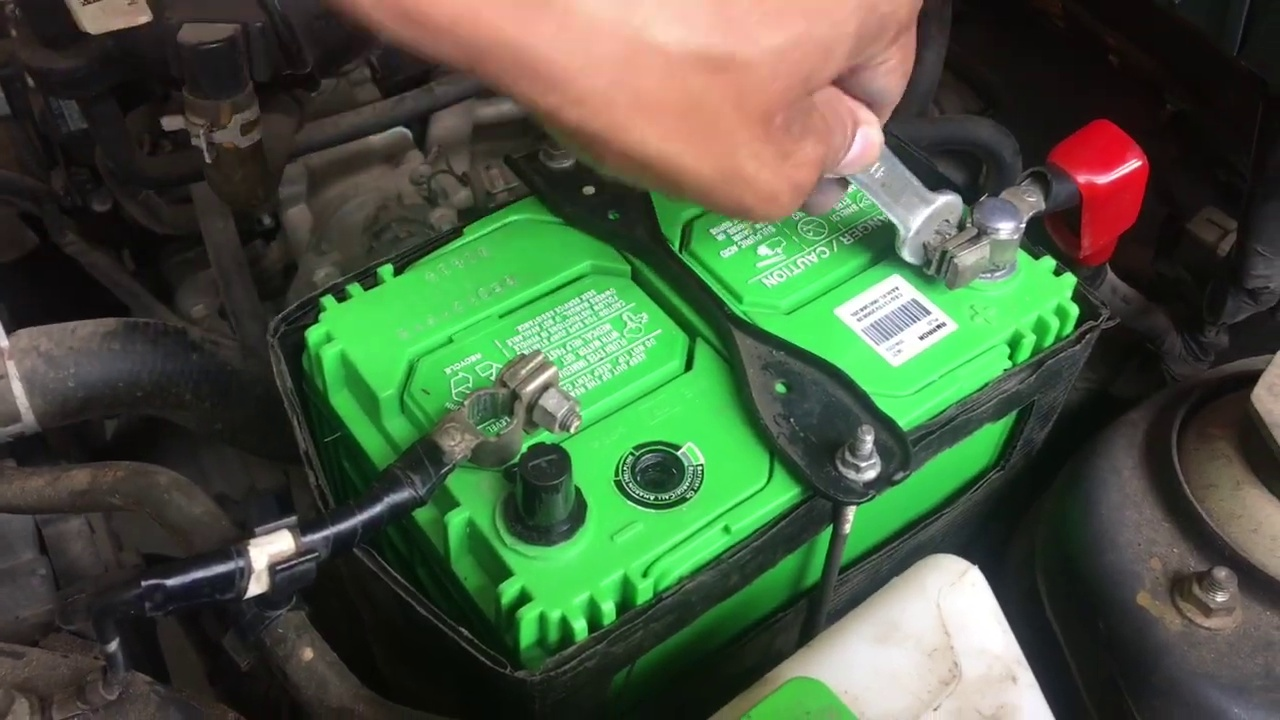battery: (311, 166, 1104, 609)
pos_connected: (926, 125, 1165, 313)
